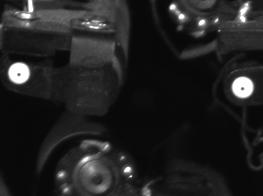fiber: (4, 54, 38, 90), (225, 70, 259, 106)
